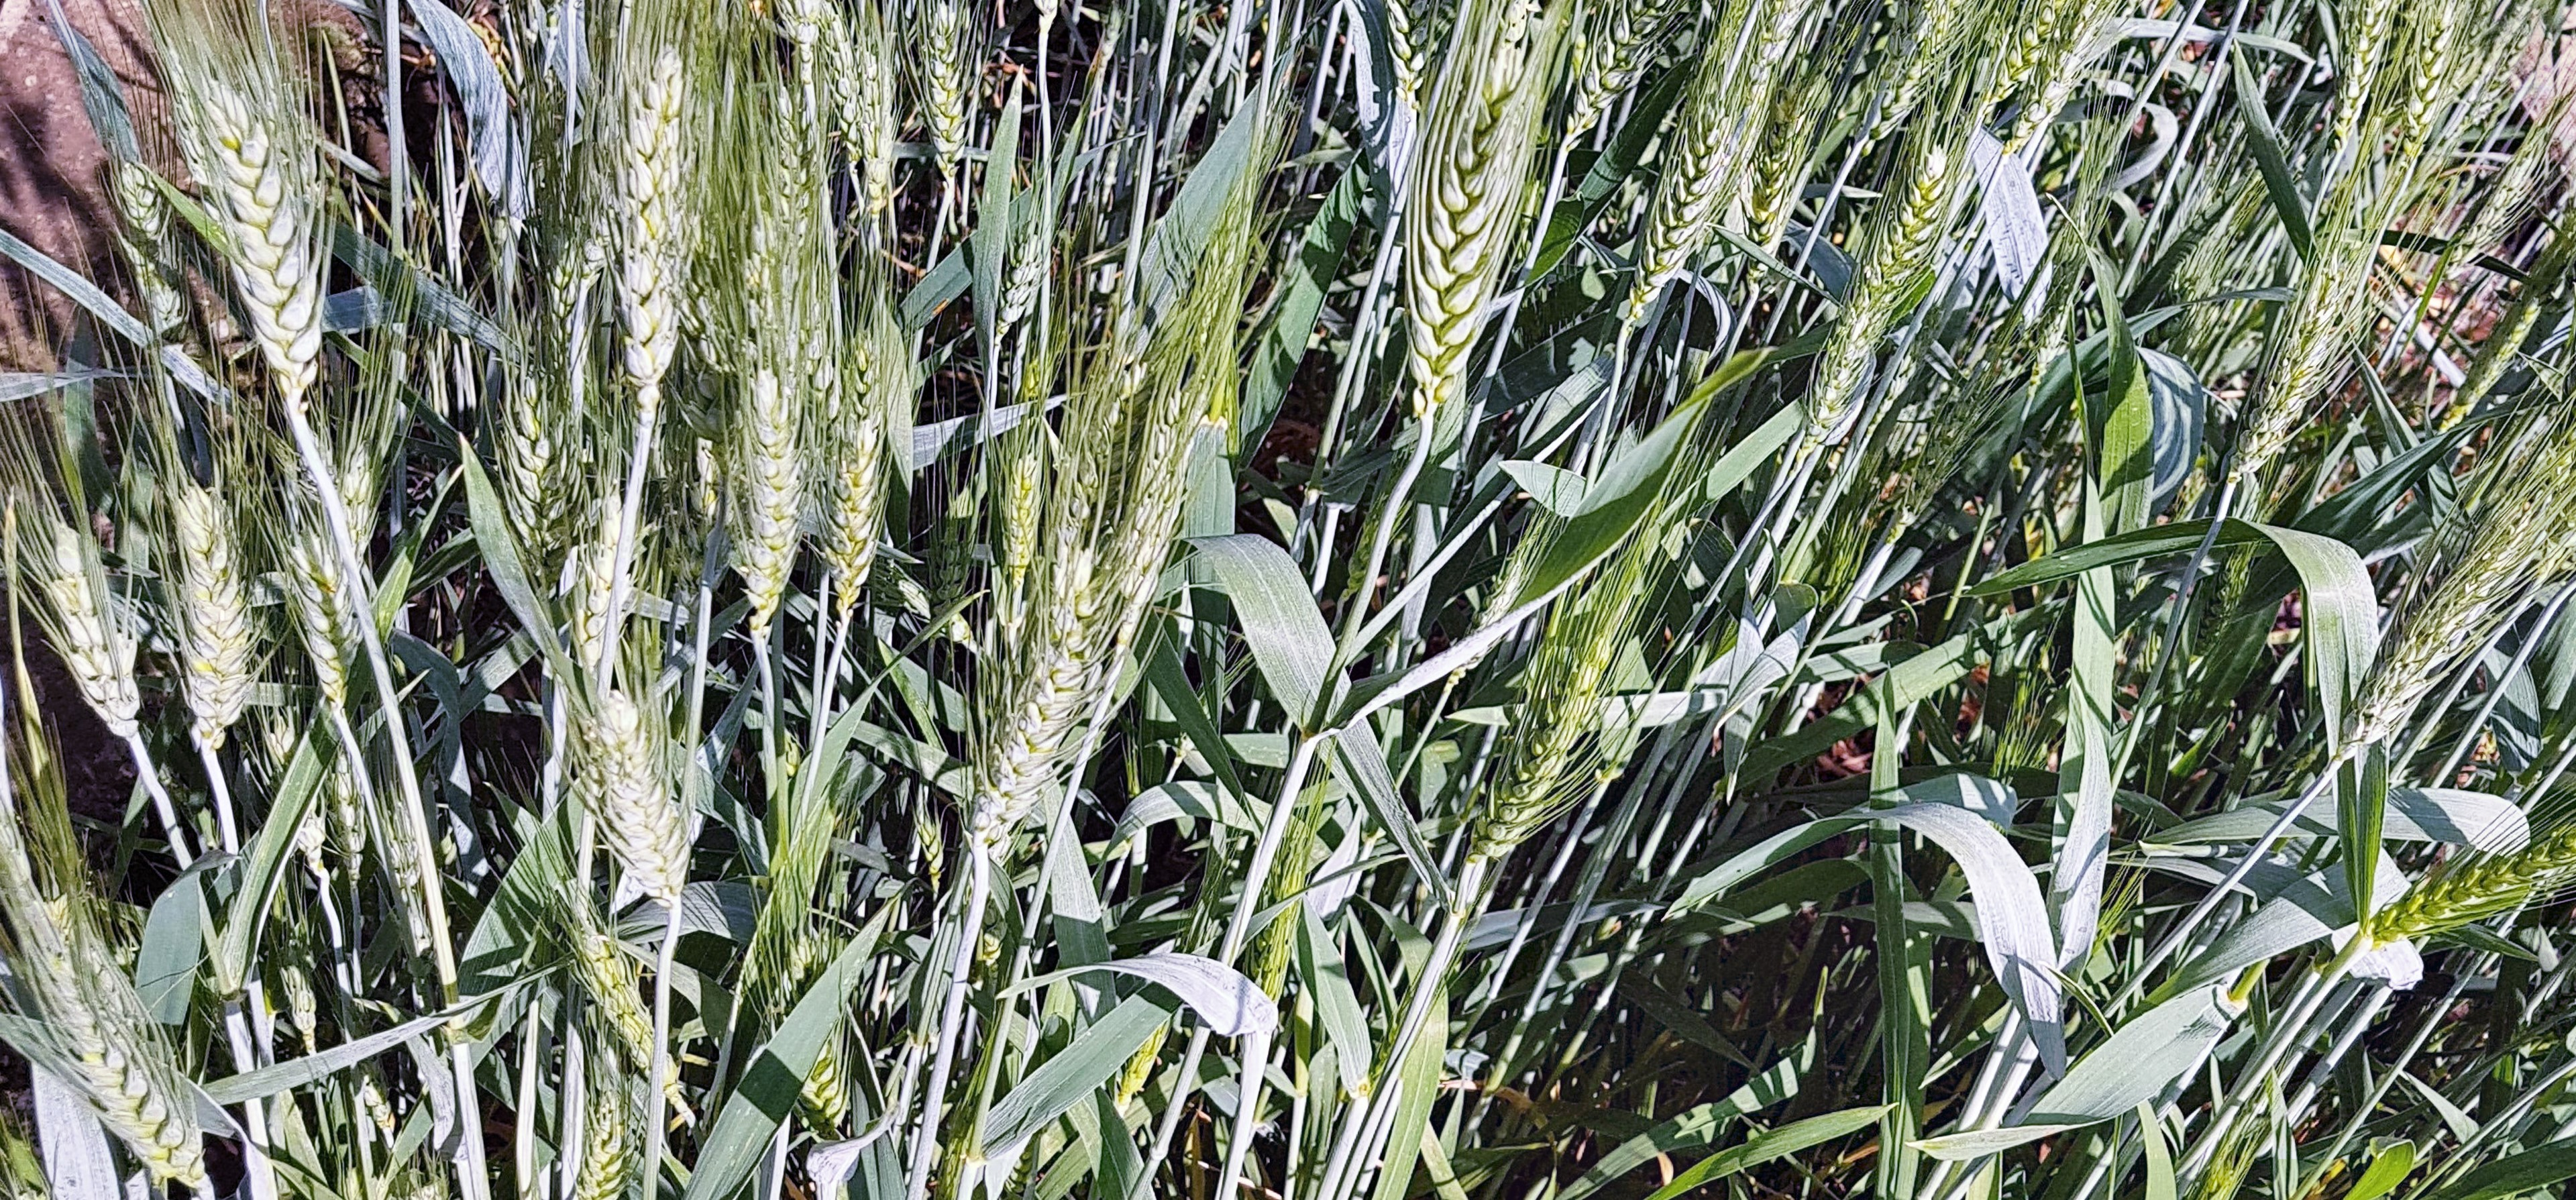Healthy Wheat: (1362, 33, 2011, 414), (2311, 469, 2576, 781), (151, 56, 361, 387), (1465, 591, 1663, 847), (718, 373, 905, 629), (141, 476, 291, 711), (950, 644, 1104, 862)
